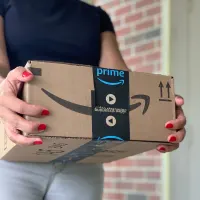package: (0, 59, 176, 165)
